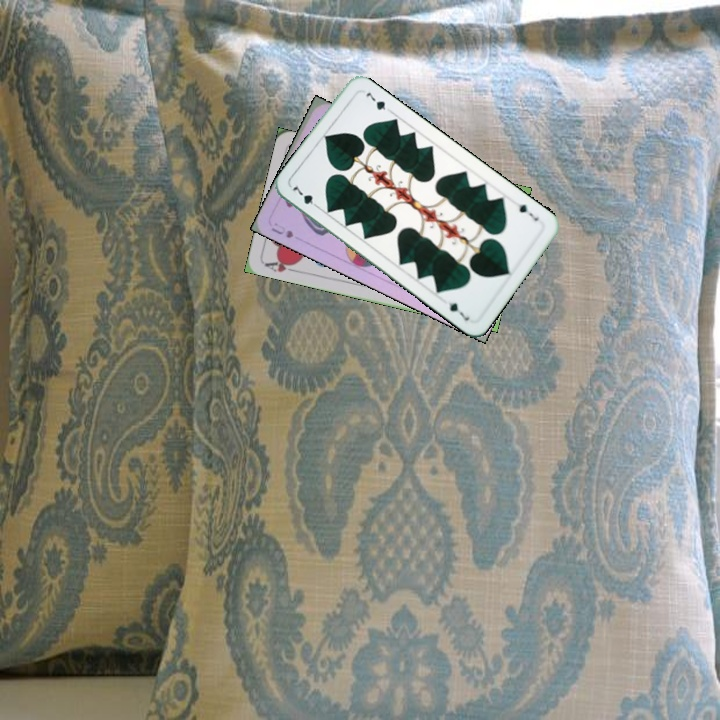G7: (288, 181, 323, 211), (515, 200, 541, 224)
HA: (261, 255, 301, 275)
SU: (267, 219, 296, 241)
